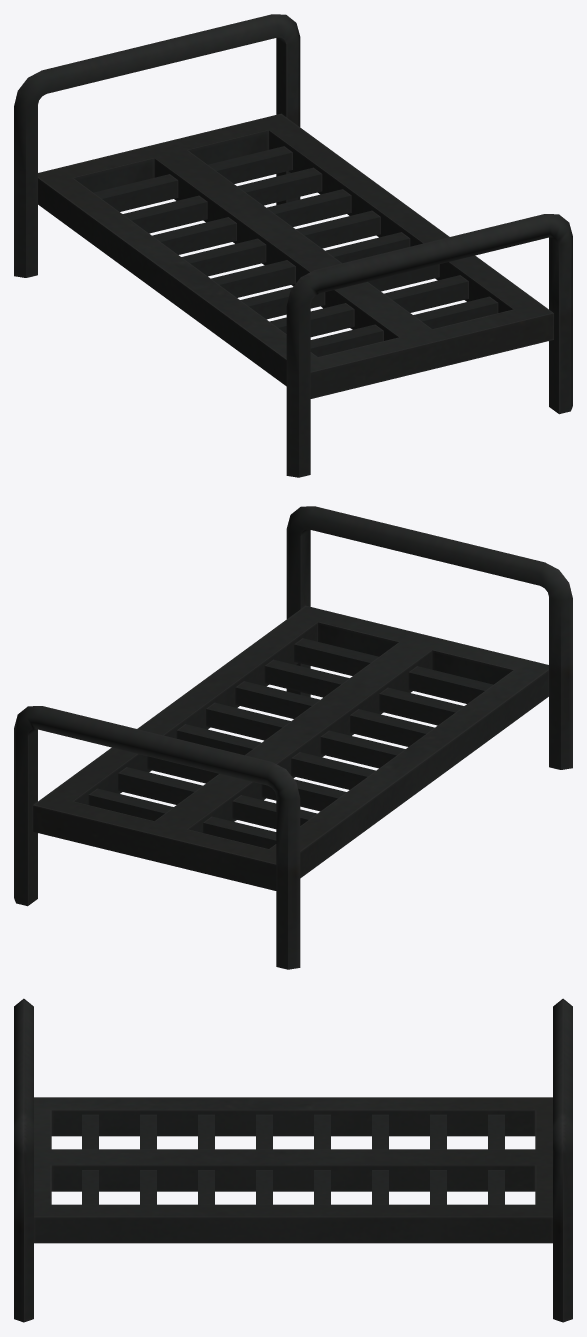
The model's file is BedFrame.fbx.
3 renders of one model, top to bottom at view 1: azimuth 30°, elevation 25°; view 2: azimuth 150°, elevation 25°; view 3: azimuth 270°, elevation 25°, orthographic.
Visible parts, largest first — view 1: Bed_Frame; view 2: Bed_Frame; view 3: Bed_Frame.
Boxes of the visible parts, x1,y1,x2,y2 form: Bed_Frame: (14, 14, 572, 477); Bed_Frame: (14, 506, 572, 969); Bed_Frame: (14, 998, 572, 1322).
Size of the model in its own units: 109 by 72.12 by 186.
